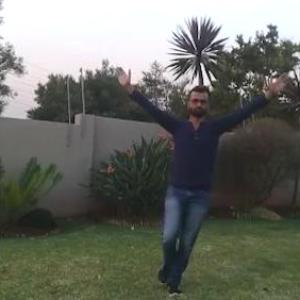takeoff: (119, 74, 286, 286)
